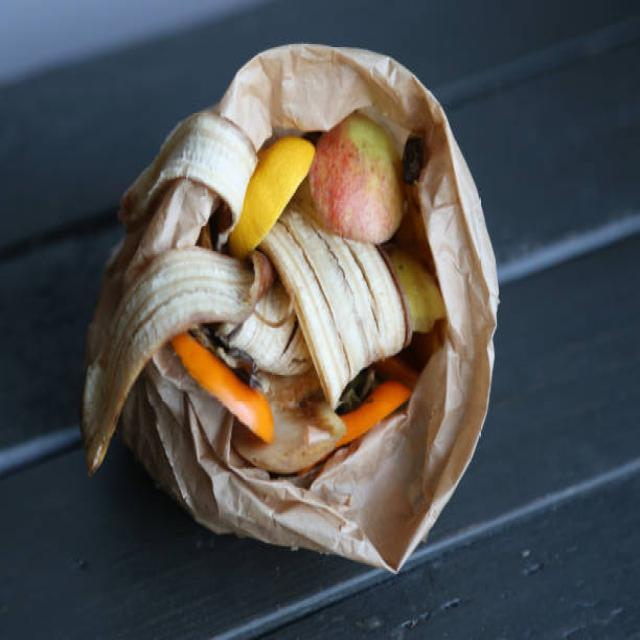trash: (85, 31, 506, 602)
